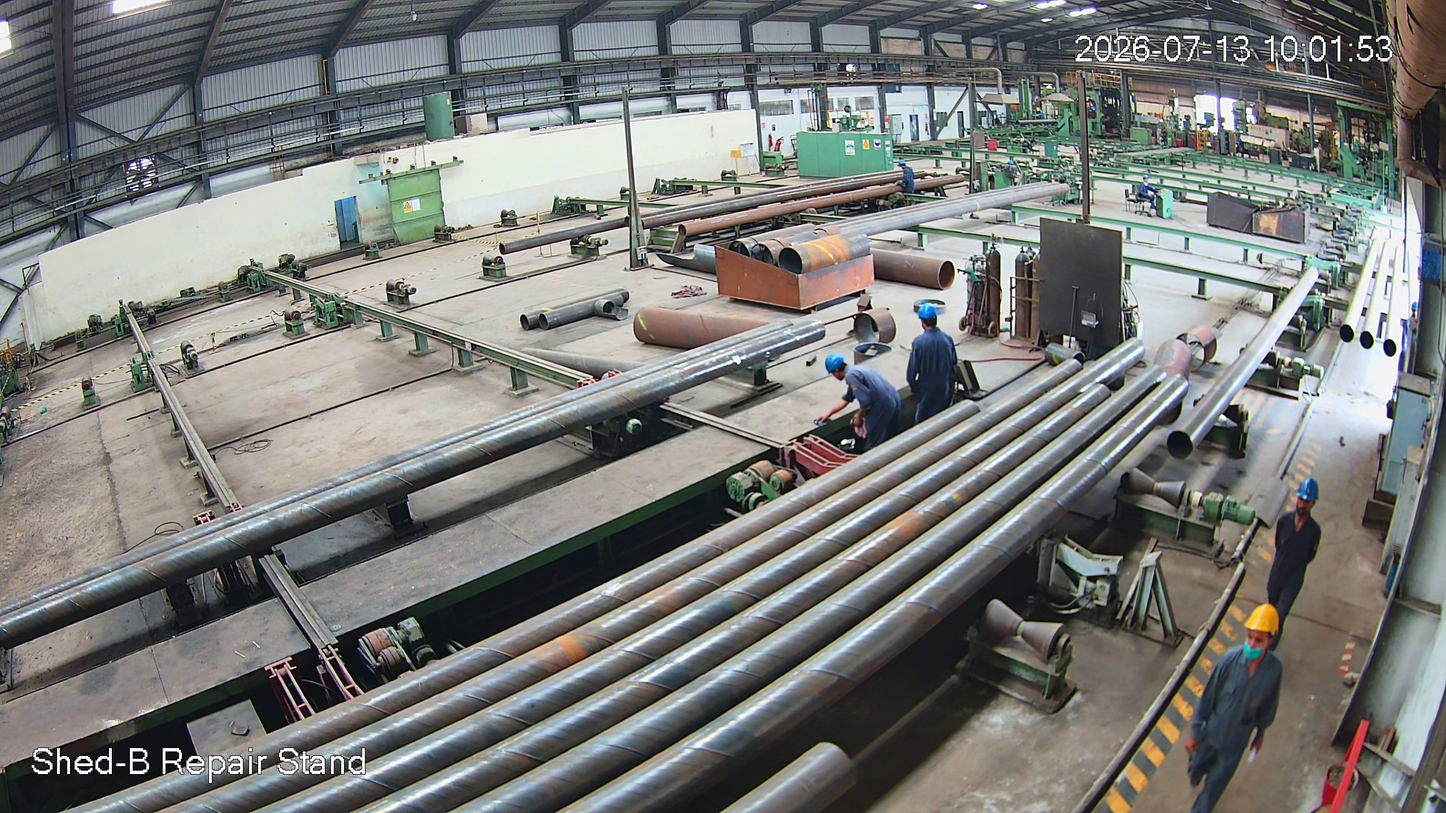Helmet: (1236, 605, 1289, 674), (1291, 476, 1329, 525), (821, 353, 865, 387), (916, 302, 944, 337)
Person: (1179, 611, 1304, 813), (1259, 478, 1329, 643), (824, 355, 902, 453), (903, 307, 962, 426)
